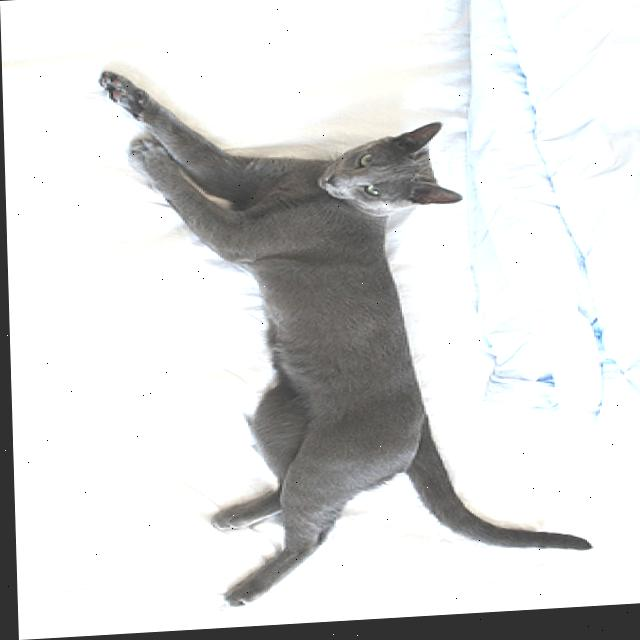Russian Blue: (92, 46, 595, 617)
